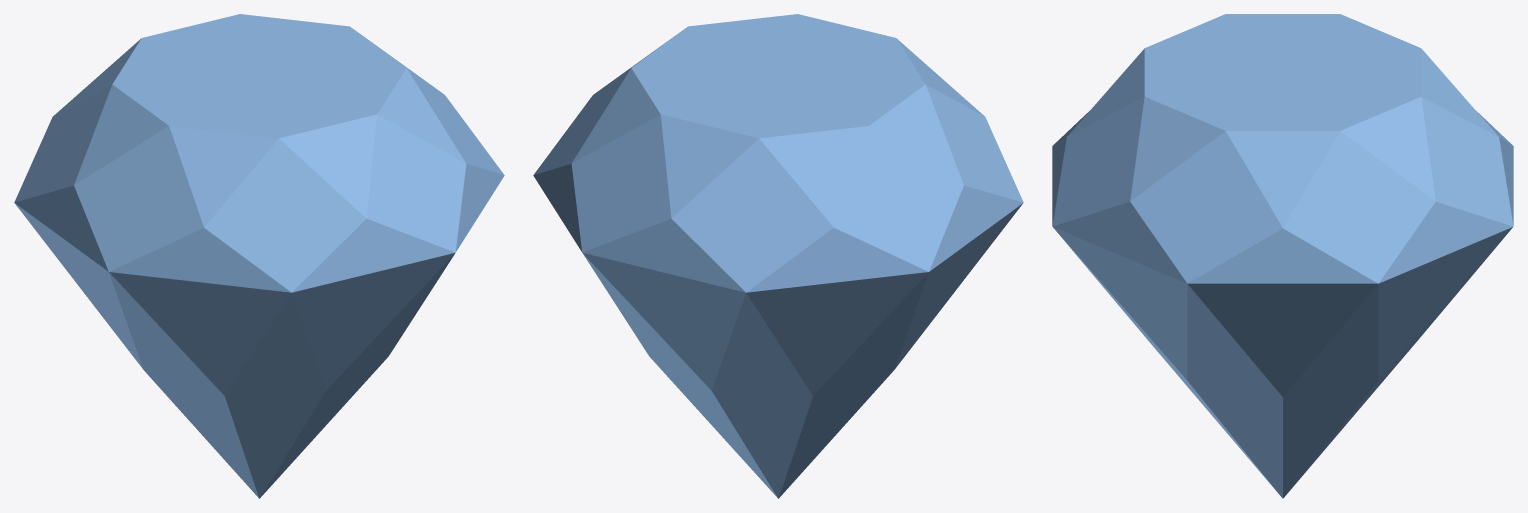
File: Gem.fbx
3 views of the same model, side by side, from view 1: azimuth 30°, elevation 25°; view 2: azimuth 150°, elevation 25°; view 3: azimuth 270°, elevation 25° (orthographic).
Parts seen in each view (by area): view 1: Gem; view 2: Gem; view 3: Gem.
Boxes of the visible parts, x1,y1,x2,y2 form: Gem: (14, 14, 504, 498); Gem: (533, 14, 1023, 498); Gem: (1052, 14, 1513, 498).
Size of the model in its own units: 185 by 189 by 185.
